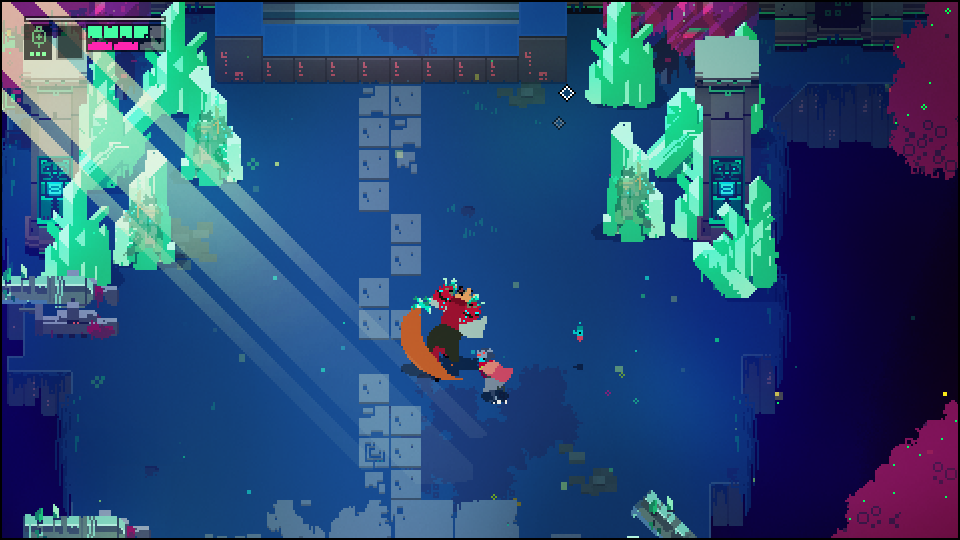hanged_man: (404, 279, 485, 381)
player: (476, 354, 508, 400)
